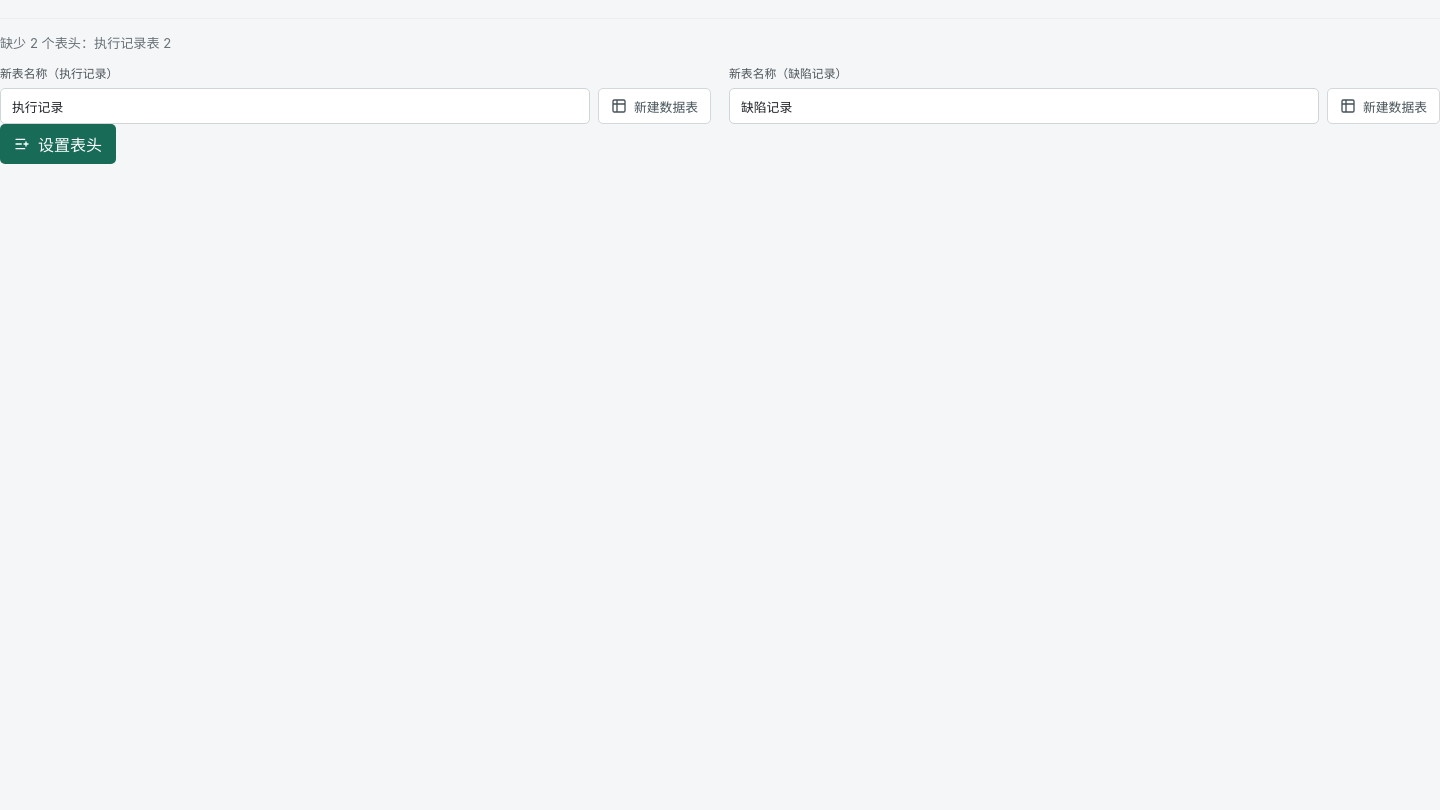
it: leaves the approval alone when Lark already had every header
The width and height of the screenshot is (1440, 810).
expect the text "缺少 2 个表头：执行记录表 2" is shown: met, box [0,35,171,51]
Click the button "设置表头". click: (58, 144)
box: [0,124,116,164]
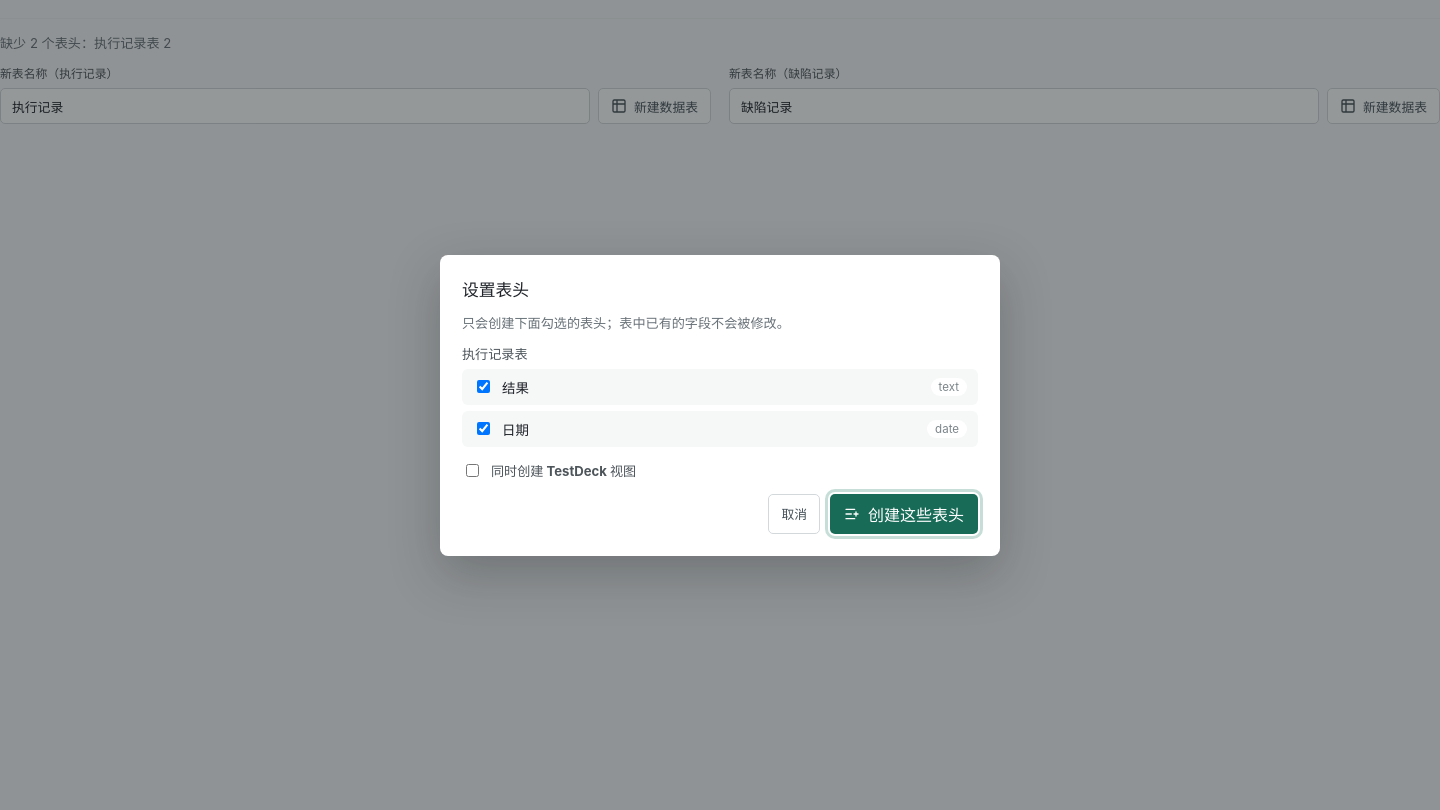
Click the button "创建这些表头". click: (904, 514)
box: [830,494,978,534]
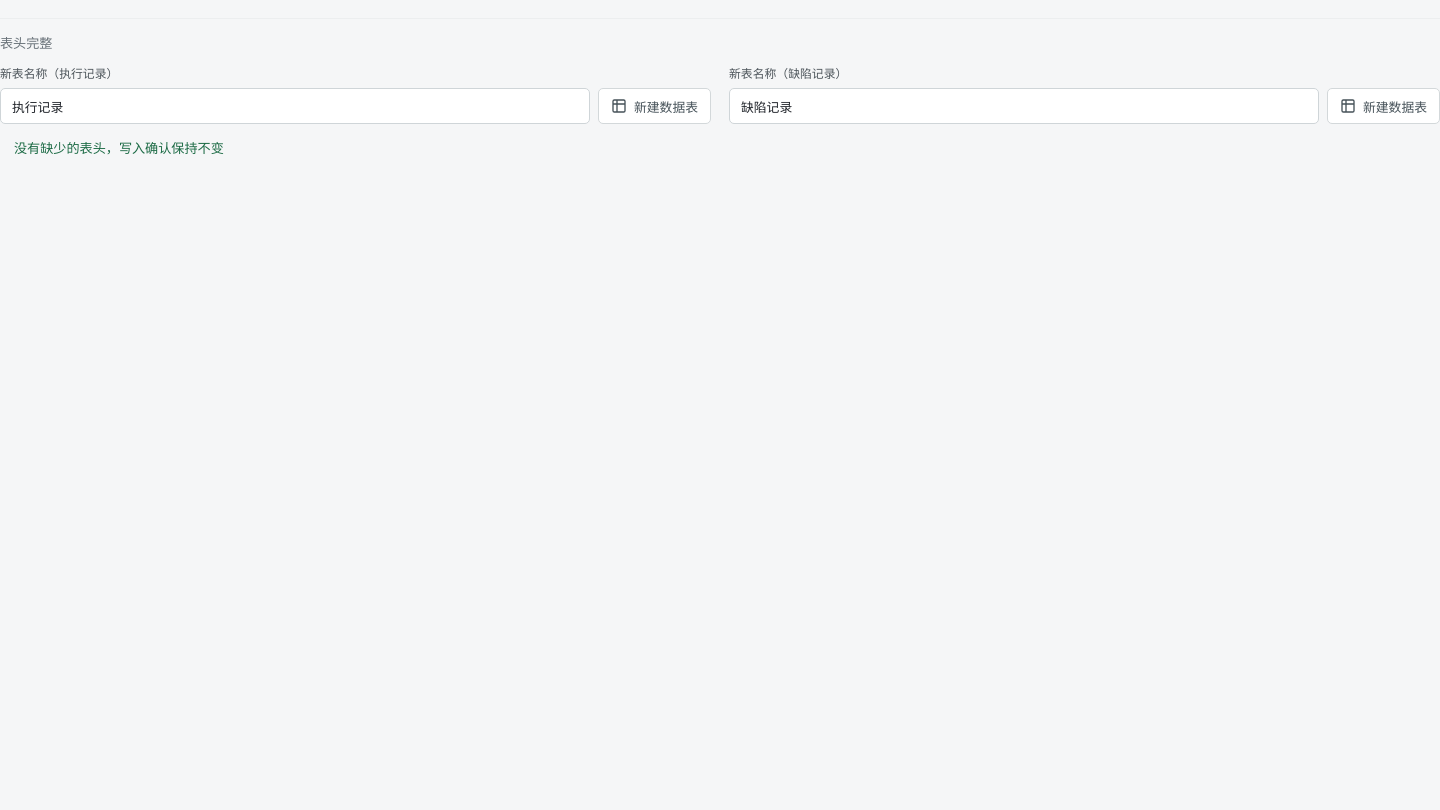
expect the text "没有缺少的表头，写入确认保持不变" is shown: met, box [14,140,224,156]
expect the text "表头完整" is shown: met, box [0,35,52,51]
